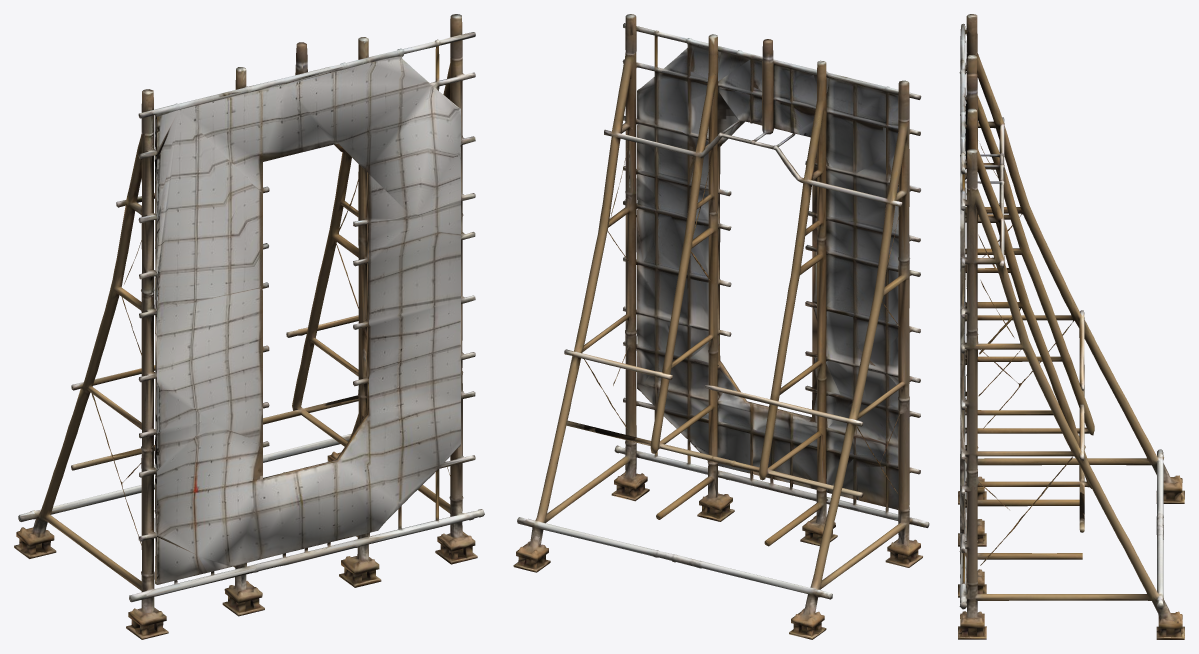
The model's file is sign-letter-D.glb.
3 renders of one model, left to right at view 1: azimuth 30°, elevation 25°; view 2: azimuth 150°, elevation 25°; view 3: azimuth 270°, elevation 25°, orthographic. The views are drawn at different scales.
Visible parts, largest first — view 1: model; view 2: model; view 3: model.
Part boxes in pixels (x1,y1,x2,y2): model: (14, 14, 484, 639); model: (513, 14, 929, 639); model: (958, 14, 1184, 639).
Bounding box in the file's own units: 9.03 × 13.4 × 5.6.
Materials: 1 (1 with a texture image).
